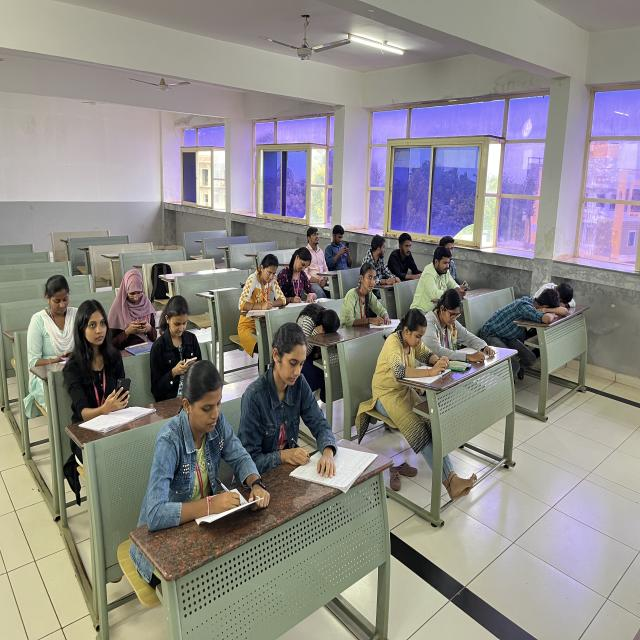Reading: (424, 291, 494, 365), (377, 310, 449, 380)
Sleeping: (293, 300, 346, 338), (522, 286, 564, 324)
Using Phone: (56, 296, 138, 414), (107, 260, 164, 342), (416, 241, 473, 291), (324, 220, 359, 269)
Writing: (135, 354, 264, 529), (256, 321, 354, 493), (342, 261, 398, 325), (238, 252, 288, 311), (284, 242, 327, 307)
